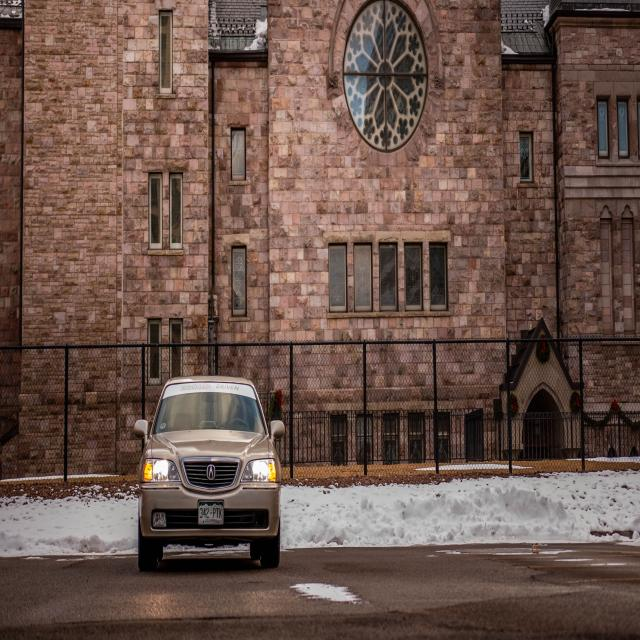Plat: (198, 499, 224, 525)
